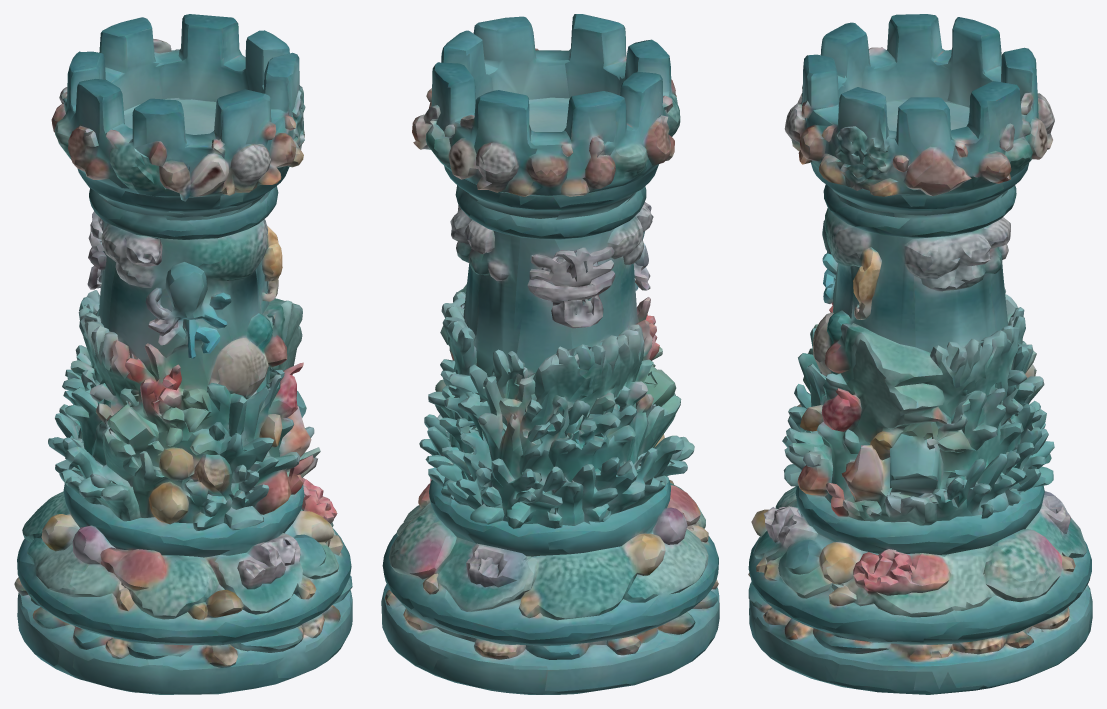
3 renders of one model, left to right at view 1: azimuth 30°, elevation 25°; view 2: azimuth 150°, elevation 25°; view 3: azimuth 270°, elevation 25°, orthographic.
Visible parts, largest first — view 1: world; view 2: world; view 3: world.
Boxes of the visible parts, x1=… form: world: x1=14, y1=14, x2=352, y2=694; world: x1=381, y1=14, x2=719, y2=694; world: x1=748, y1=14, x2=1092, y2=694.
Size of the model in its own units: 0.0966 by 0.18 by 0.0989.
1 material, 1 textured.
